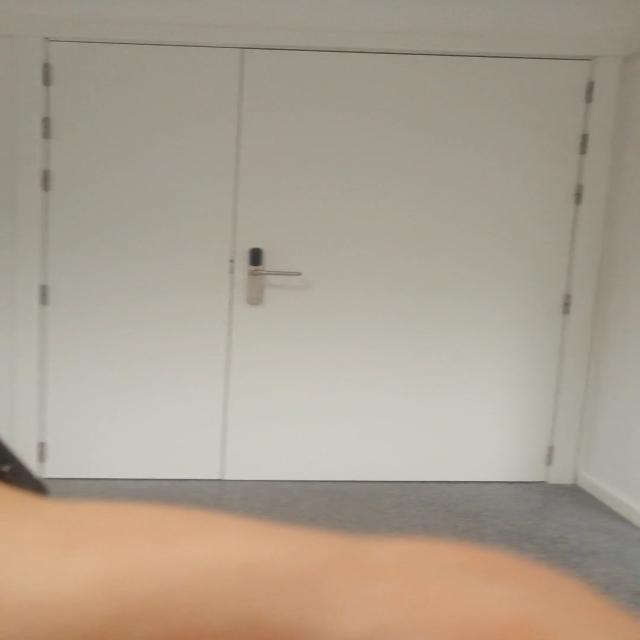door_handle: (247, 269, 306, 279)
